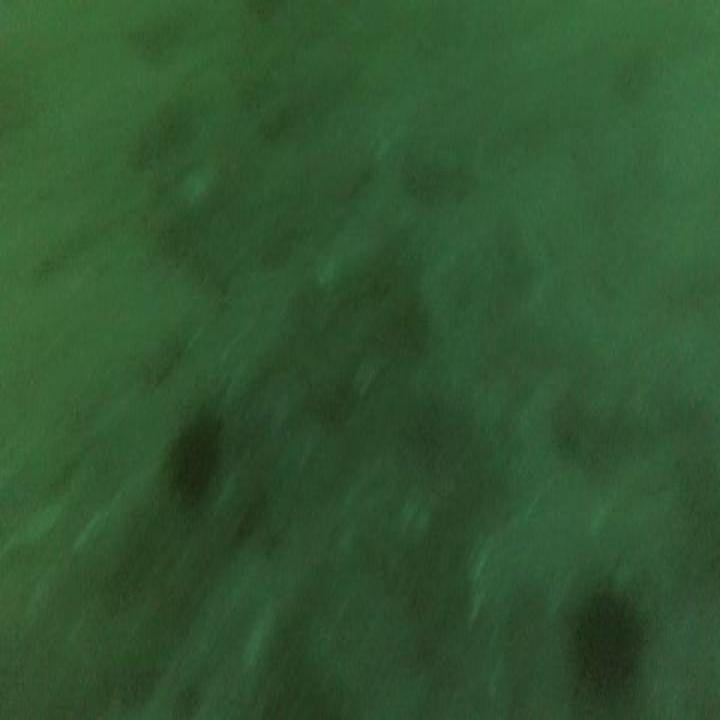echinus: (566, 574, 643, 713), (160, 391, 225, 517)
